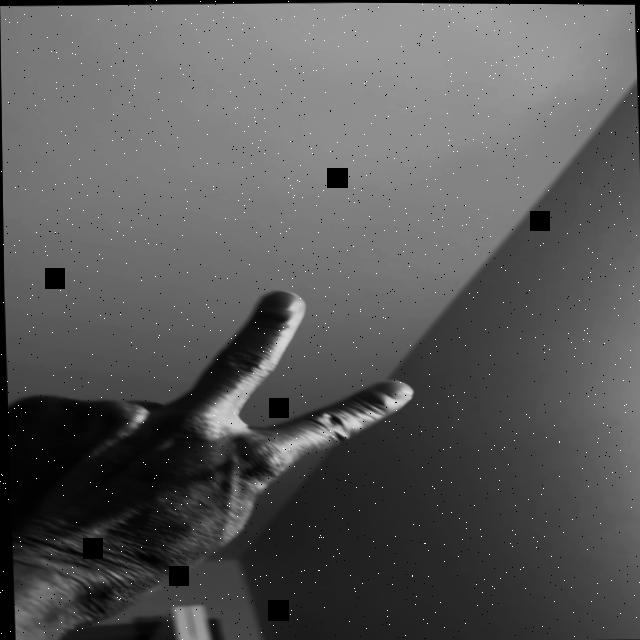Scissors: (3, 283, 419, 640)
